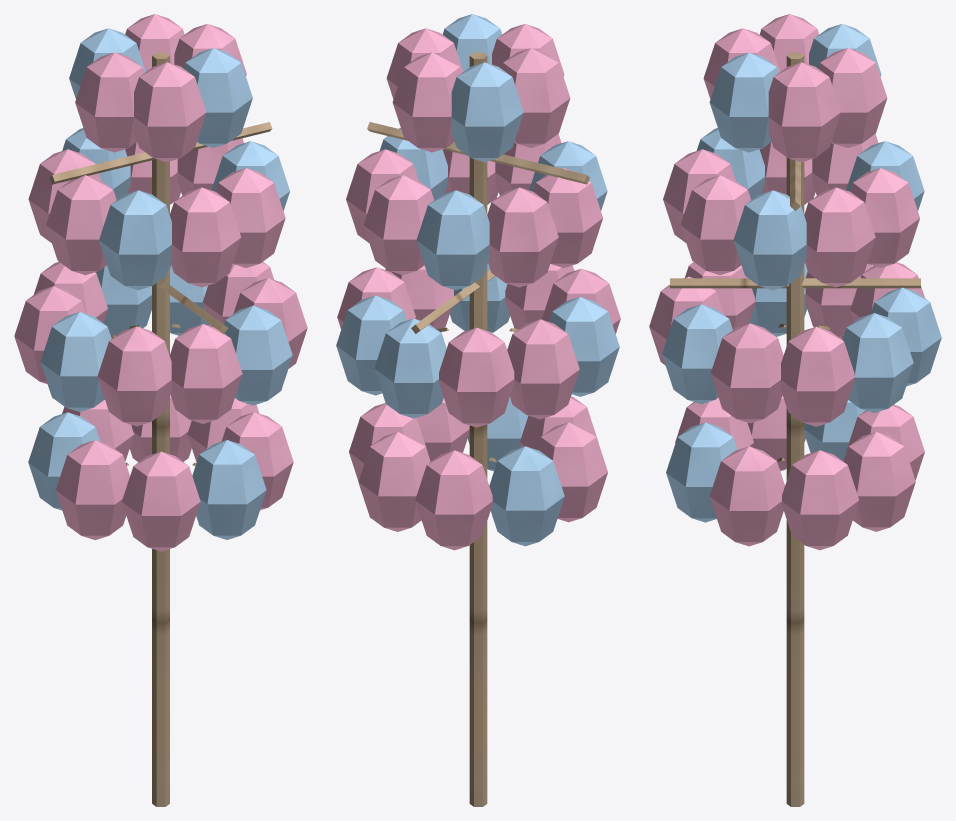
The model's file is cotton-candy-pole.glb.
3 renders of one model, left to right at view 1: azimuth 30°, elevation 25°; view 2: azimuth 150°, elevation 25°; view 3: azimuth 270°, elevation 25°, orthographic.
Visible parts, largest first — view 1: cotton_candy_pole; view 2: cotton_candy_pole; view 3: cotton_candy_pole.
Part boxes in pixels (x1,y1,x2,y2): cotton_candy_pole: (14,14,307,806); cotton_candy_pole: (336,14,620,806); cotton_candy_pole: (649,14,941,806).
Size of the model in its own units: 0.7793 by 2.35 by 0.8156.
1 material, 1 textured.
